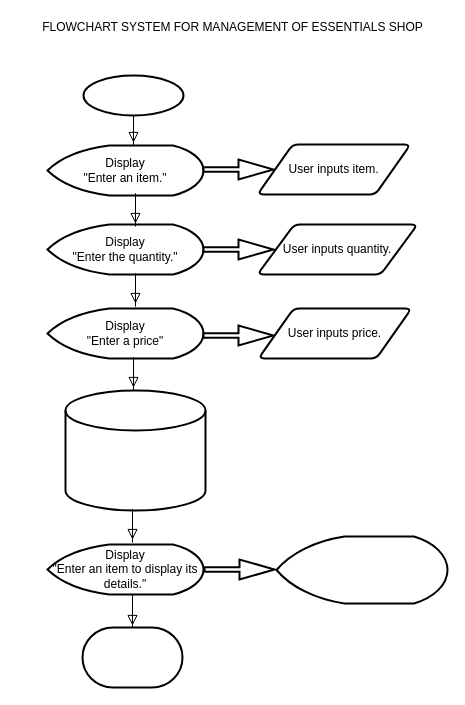
This 465x705 diagram has some shape labels left out. The shapes that lost their labels are listed below. From the top down, each one's centre as x and y in pixels, then its label:
[133,95]: START
[135,450]: Inputs are stored in essentials_stock.txt
[361,569]: Display "Item" "Quantity." "Price."
[132,657]: END
